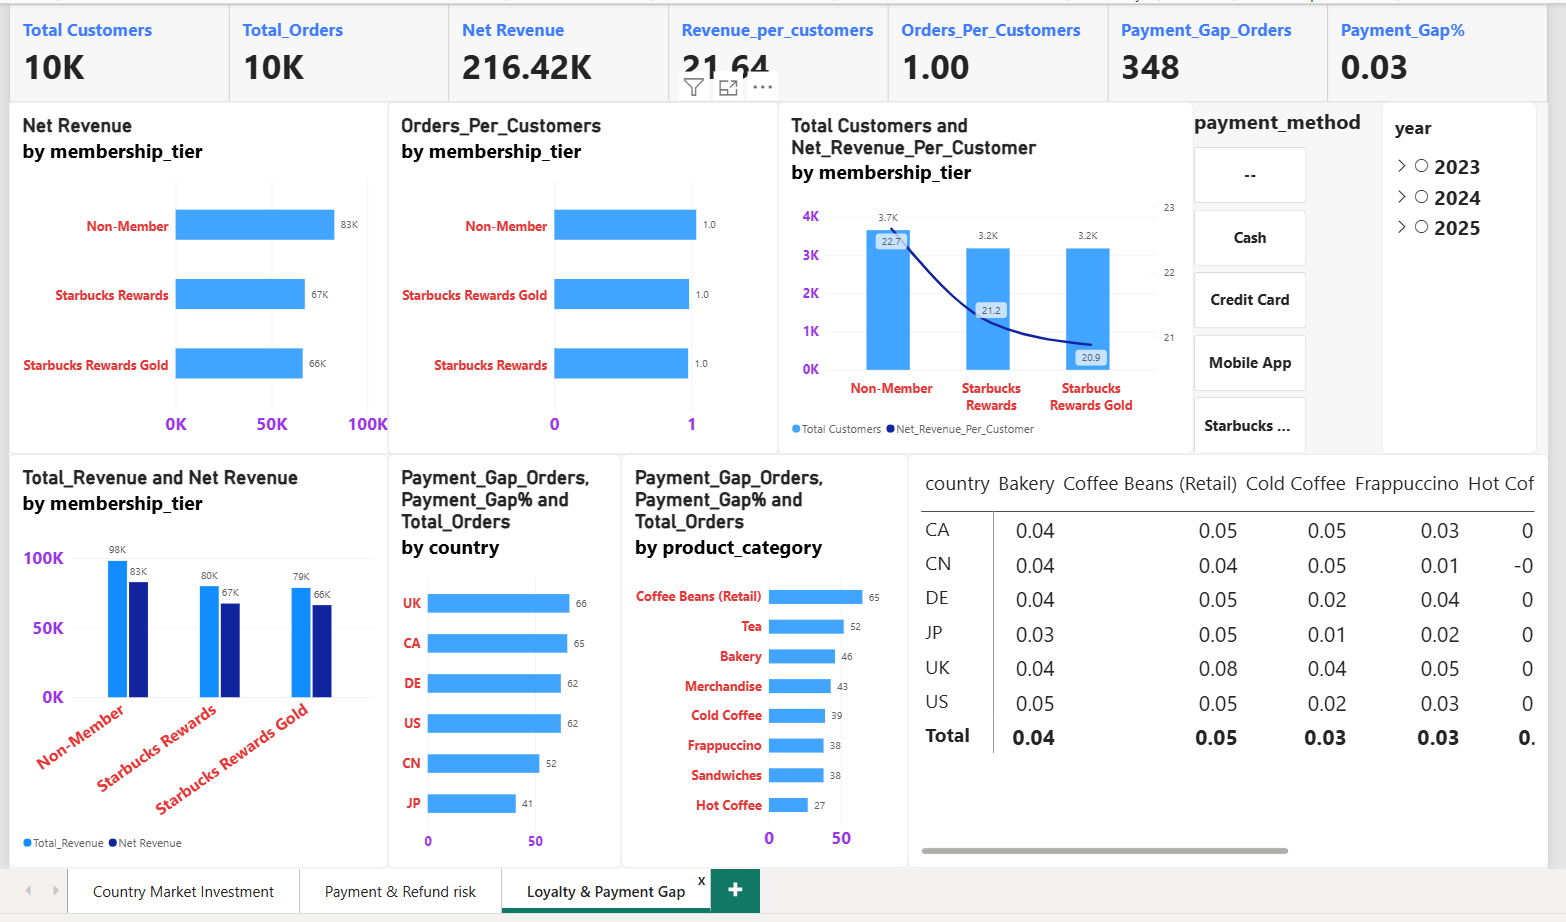

Layout of this report page (visuals, bound fields, positions):
{"tool":"powerbi","page":{"name":"Loyalty & Payment Gap","canvas":[1920,1080],"ordinal":2},"visuals":[{"type":"cardVisual","fields":{"Data":["public orders.Total Customers","public orders.Total_Orders","public orders.Net Revenue","public orders.Revenue_per_customers","public orders.Orders_Per_Customers","public orders.Payment_Gap_Orders","public orders.Payment_Gap%"]},"box":[0,1.7,1920.4,122.1],"z":0},{"type":"barChart","fields":{"Category":["public customers.membership_tier"],"Y":["public orders.Net Revenue"]},"box":[0,123.8,490.1,439.5],"z":2000},{"type":"clusteredColumnChart","fields":{"Category":["public customers.membership_tier"],"Y":["date.Total_Revenue","public orders.Net Revenue"]},"box":[0,563.4,472.7,516.3],"z":3000},{"type":"advancedSlicerVisual","fields":{"Values":["public orders.payment_method"]},"box":[1477.3,129.1,233.7,430.8],"z":7000},{"type":"listSlicer","fields":{"Values":["date.Date Hierarchy.year","date.Date Hierarchy.quarter","date.Date Hierarchy.month","date.Date Hierarchy.day"]},"box":[1711.1,123.8,193.6,439.5],"z":8000},{"type":"barChart","fields":{"Category":["public customers.membership_tier"],"Y":["public orders.Orders_Per_Customers"]},"box":[472.7,123.8,488.4,439.5],"z":8001},{"type":"lineStackedColumnComboChart","fields":{"Category":["public customers.membership_tier"],"Y":["public orders.Total Customers"],"Y2":["public orders.Net_Revenue_Per_Customer"]},"box":[959.3,123.8,518,439.5],"z":8002},{"type":"barChart","fields":{"Category":["public customers.country"],"Y":["public orders.Payment_Gap_Orders"]},"box":[472.7,563.4,291.3,516.3],"z":8003},{"type":"barChart","fields":{"Category":["public orders.product_category"],"Y":["public orders.Payment_Gap_Orders"]},"box":[764,563.4,357.6,516.3],"z":8004},{"type":"pivotTable","fields":{"Columns":["public orders.product_category"],"Rows":["public customers.country"],"Values":["public orders.Payment_Gap%"]},"box":[1121.5,563.4,798.8,516.3],"z":8005}]}

Visuals, with their boxes on the page's 1920x1080 design canvas (x1, y1, x2, y2). These are canvas units, not pixel positions in the 1566x922 screenshot, which may show the page scaled, cropped or inside an application window:
cardVisual - public orders.Total Customers x public orders.Total_Orders: <region>0, 2, 1920, 124</region>
barChart - public customers.membership_tier x public orders.Net Revenue: <region>0, 124, 490, 563</region>
clusteredColumnChart - public customers.membership_tier x date.Total_Revenue: <region>0, 563, 473, 1080</region>
advancedSlicerVisual - public orders.payment_method: <region>1477, 129, 1711, 560</region>
listSlicer - date.Date Hierarchy.year x date.Date Hierarchy.quarter: <region>1711, 124, 1905, 563</region>
barChart - public customers.membership_tier x public orders.Orders_Per_Customers: <region>473, 124, 961, 563</region>
lineStackedColumnComboChart - public customers.membership_tier x public orders.Total Customers: <region>959, 124, 1477, 563</region>
barChart - public customers.country x public orders.Payment_Gap_Orders: <region>473, 563, 764, 1080</region>
barChart - public orders.product_category x public orders.Payment_Gap_Orders: <region>764, 563, 1122, 1080</region>
pivotTable - public orders.product_category x public customers.country: <region>1122, 563, 1920, 1080</region>
